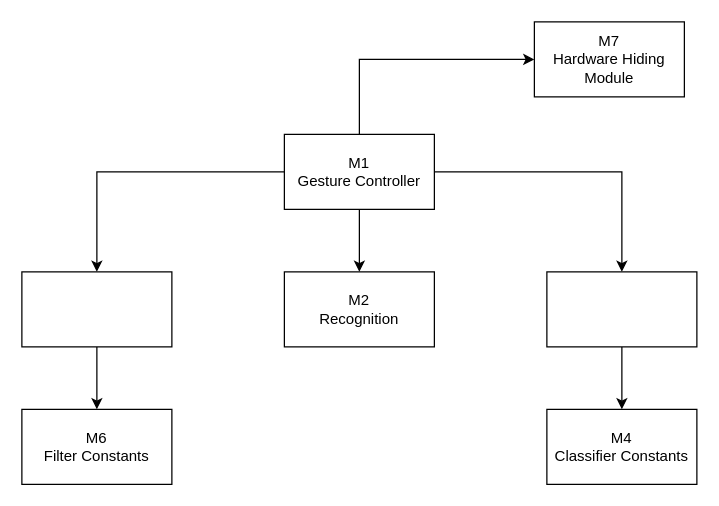
This 719x506 diagram has some shape labels left out. Here are the shapes that lost their labels. From the top down, the centre of each, then its label:
point (96, 309): M5 ImgFilter Controller
point (621, 309): M3 Classifier
